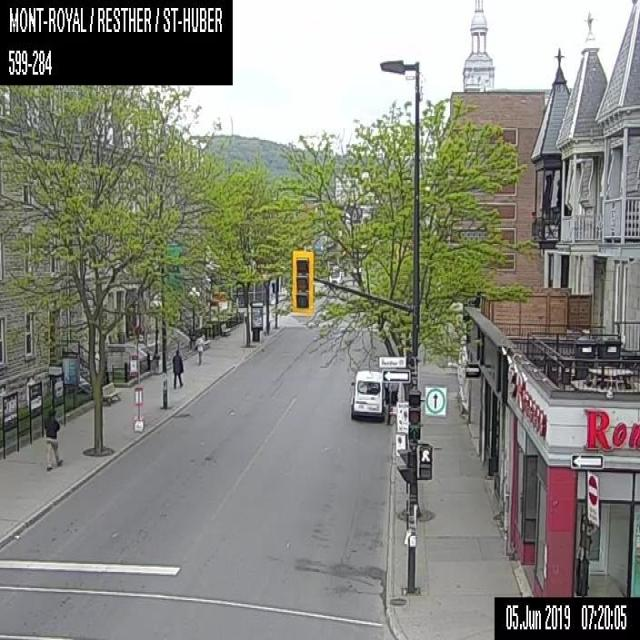pedestrian: (44, 408, 62, 469), (171, 348, 183, 388), (194, 332, 204, 364)
vehicle: (350, 370, 388, 419), (328, 266, 342, 284)
